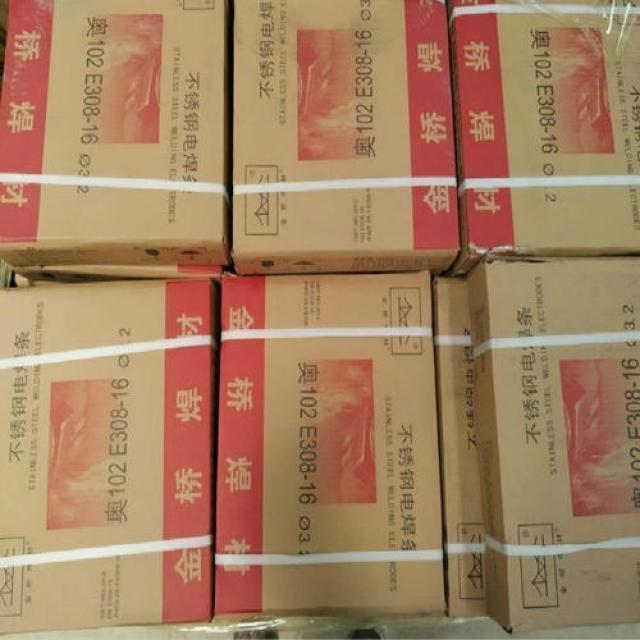box: (213, 254, 448, 618), (0, 279, 220, 632), (470, 256, 639, 635), (230, 0, 462, 275), (0, 0, 234, 267), (446, 0, 639, 276), (431, 272, 489, 620), (13, 264, 222, 286)
